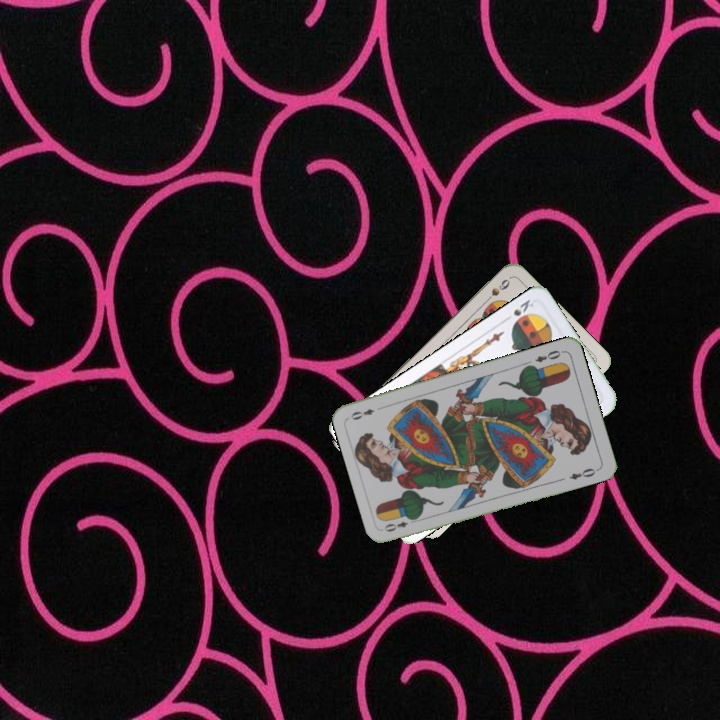EO: (380, 514, 420, 534), (531, 346, 566, 365)
S9: (480, 275, 513, 306)
SK: (509, 295, 536, 327)
